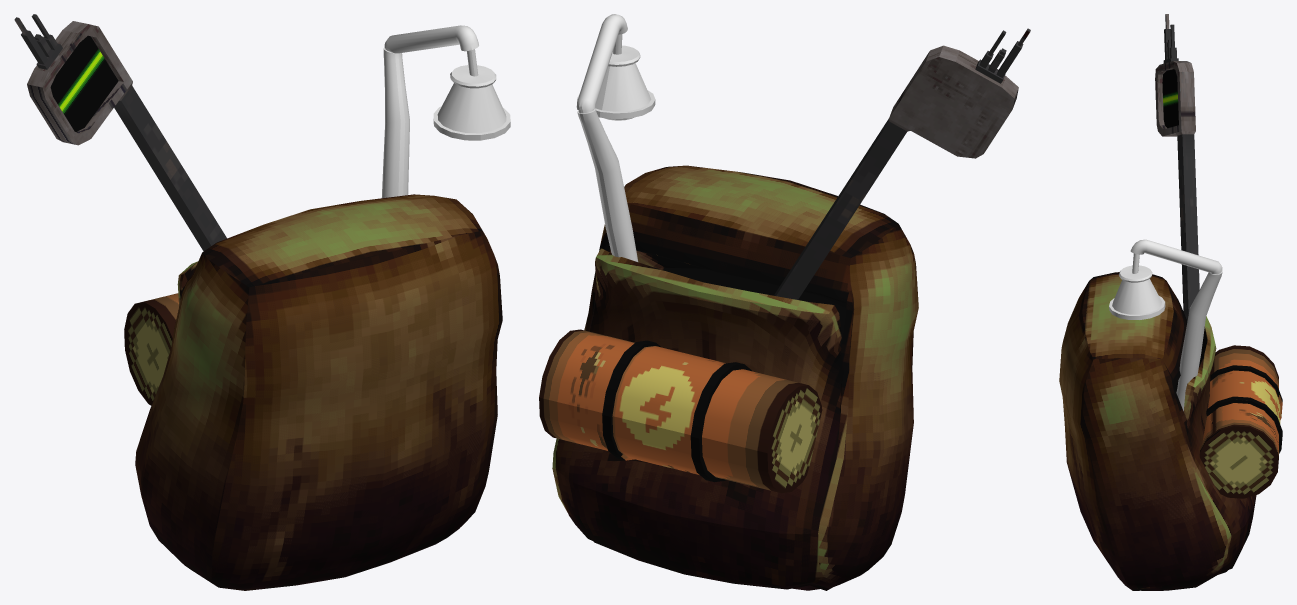
The model's file is BackPack.fbx.
3 views of the same model, side by side, from view 1: azimuth 30°, elevation 25°; view 2: azimuth 150°, elevation 25°; view 3: azimuth 270°, elevation 25° (orthographic). The views are drawn at different scales.
Visible parts, largest first — view 1: Cube.019; view 2: Cube.019; view 3: Cube.019.
Part boxes in pixels (box(x1,y1,x2,y2)): Cube.019: box(14, 14, 510, 590); Cube.019: box(539, 14, 1030, 590); Cube.019: box(1059, 14, 1282, 590).
Bounding box in the file's own units: 221 × 275 × 126.
